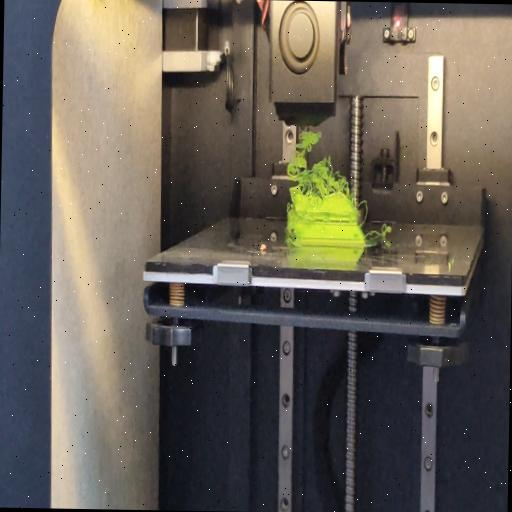spaghetti: (288, 125, 351, 196), (364, 222, 394, 240), (356, 196, 370, 224), (286, 234, 295, 244)
